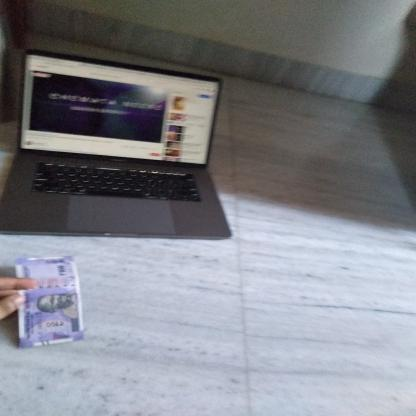New100Front: (15, 256, 73, 344)
